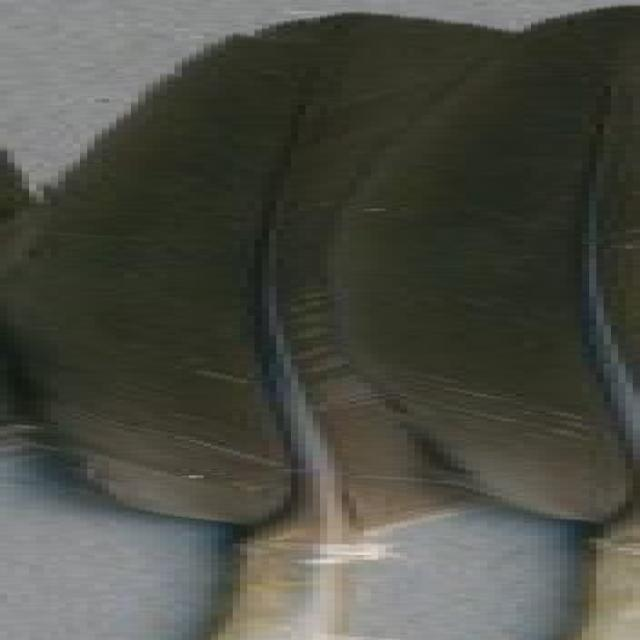feather: (0, 0, 640, 640), (298, 0, 640, 640)
